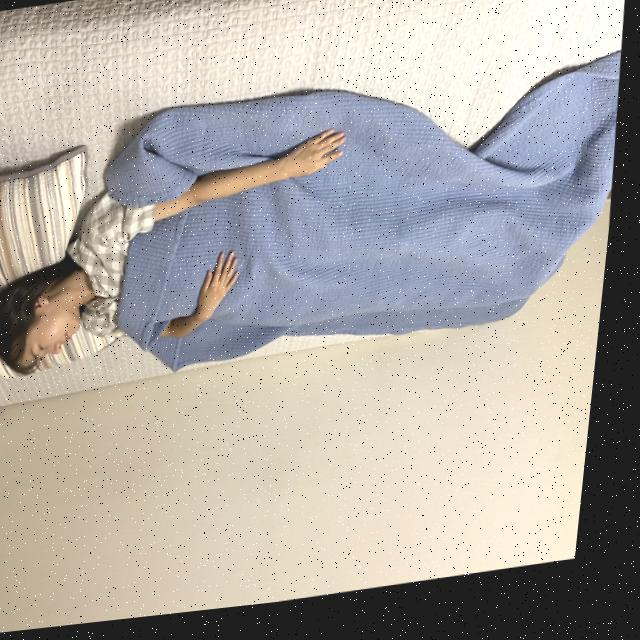sleeping-person: (0, 68, 630, 433)
